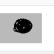correct: (12, 16, 36, 36)
